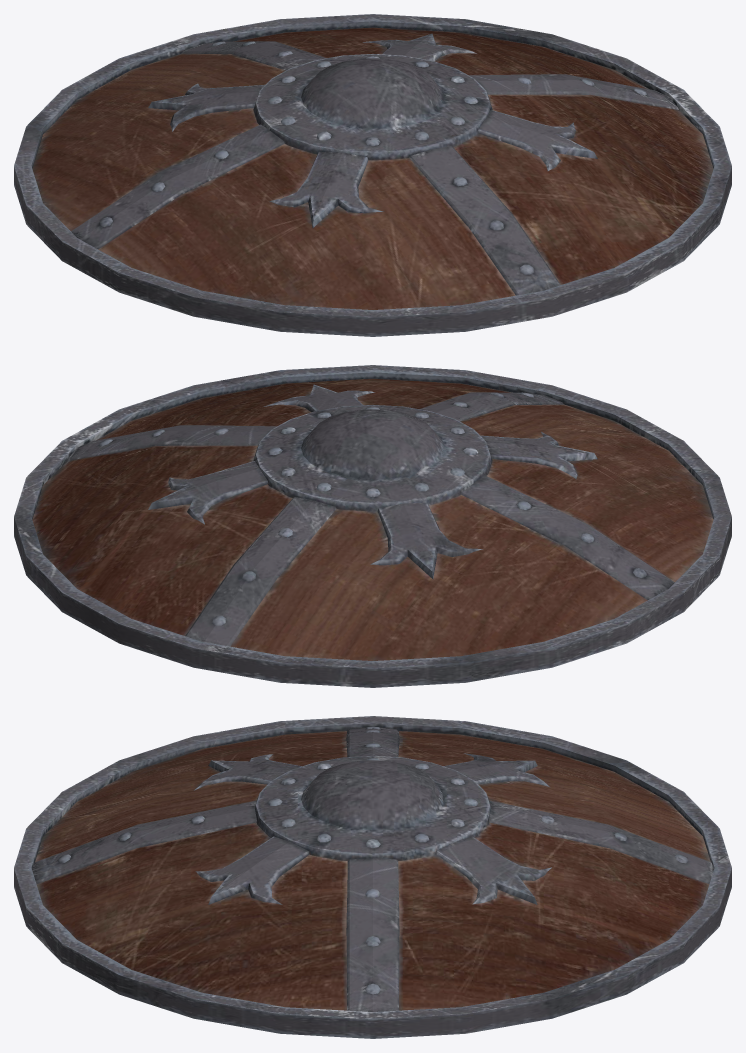
The model's file is shield.glb.
3 renders of one model, top to bottom at view 1: azimuth 30°, elevation 25°; view 2: azimuth 150°, elevation 25°; view 3: azimuth 270°, elevation 25°, orthographic.
Visible parts, largest first — view 1: shield_shield_01_0; view 2: shield_shield_01_0; view 3: shield_shield_01_0.
Boxes of the visible parts, x1,y1,x2,y2 form: shield_shield_01_0: (14,14,731,336); shield_shield_01_0: (14,365,731,687); shield_shield_01_0: (14,716,731,1038).
Bounding box in the file's own units: 0.832 × 0.1904 × 0.832.
1 material, 1 textured.
